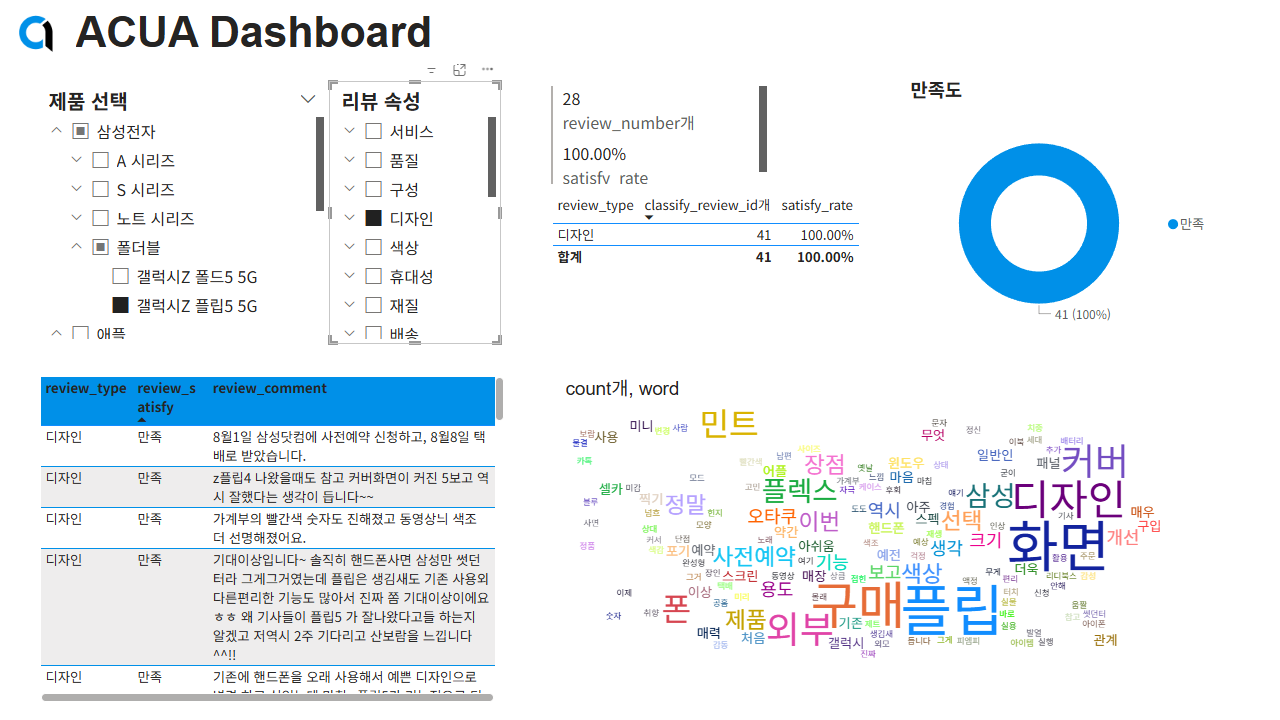

The page's visual inventory and layout, read from the dashboard file:
{"tool":"powerbi","page":{"name":"1 페이지","canvas":[1280,720],"ordinal":0},"visuals":[{"type":"slicer","fields":{"Values":["models.브랜드","models.시리즈","models.제품명(용량x)"]},"box":[35.6,81.1,293.3,263.3],"z":0},{"type":"slicer","fields":{"Values":["gpt_result.review_type","gpt_result.classify_review_id"]},"box":[328.7,81.3,172.5,263.2],"z":1000},{"type":"WordCloud1447959067750","fields":{"Category":["wordset.word"],"Values":["CountNonNull(wordset.count)"]},"box":[560.8,372.6,719,334.1],"z":2000},{"type":"donutChart","title":"만족도","fields":{"Category":["gpt_result.review_satisfy"],"Y":["CountNonNull(gpt_result.classify_review_id)"]},"box":[906.3,74.9,312.9,276.5],"z":3000},{"type":"tableEx","fields":{"Values":["gpt_result.review_type","gpt_result.review_satisfy","gpt_result.review_comment"]},"box":[35.5,372.4,473.5,334.3],"z":4000},{"type":"image","box":[0,0,70.9,65.1],"z":5000},{"type":"textbox","box":[70.7,2.9,386.4,62.1],"z":6000},{"type":"multiRowCard","fields":{"Values":["gpt_result.review_number","gpt_result.satisfy_rate"]},"box":[546.2,80.7,212.8,108.2],"z":7000},{"type":"tableEx","fields":{"Values":["gpt_result.review_type","gpt_result.classify_review_id","gpt_result.satisfy_rate"]},"box":[546.6,188.9,296.7,155.6],"z":8000}]}

Visuals, with their boxes in screenshot pixels (x1, y1, x2, y2), scaled from the page's 1280x720 canvas onto the 1280x720 screenshot:
slicer - models.브랜드 x models.시리즈: (left=36, top=81, right=329, bottom=344)
slicer - gpt_result.review_type x gpt_result.classify_review_id: (left=329, top=81, right=501, bottom=344)
WordCloud1447959067750 - wordset.word x CountNonNull(wordset.count): (left=561, top=373, right=1279, bottom=707)
"만족도" donutChart: (left=906, top=75, right=1219, bottom=351)
tableEx - gpt_result.review_type x gpt_result.review_satisfy: (left=36, top=372, right=509, bottom=707)
image: (left=0, top=0, right=71, bottom=65)
textbox: (left=71, top=3, right=457, bottom=65)
multiRowCard - gpt_result.review_number x gpt_result.satisfy_rate: (left=546, top=81, right=759, bottom=189)
tableEx - gpt_result.review_type x gpt_result.classify_review_id: (left=547, top=189, right=843, bottom=344)
